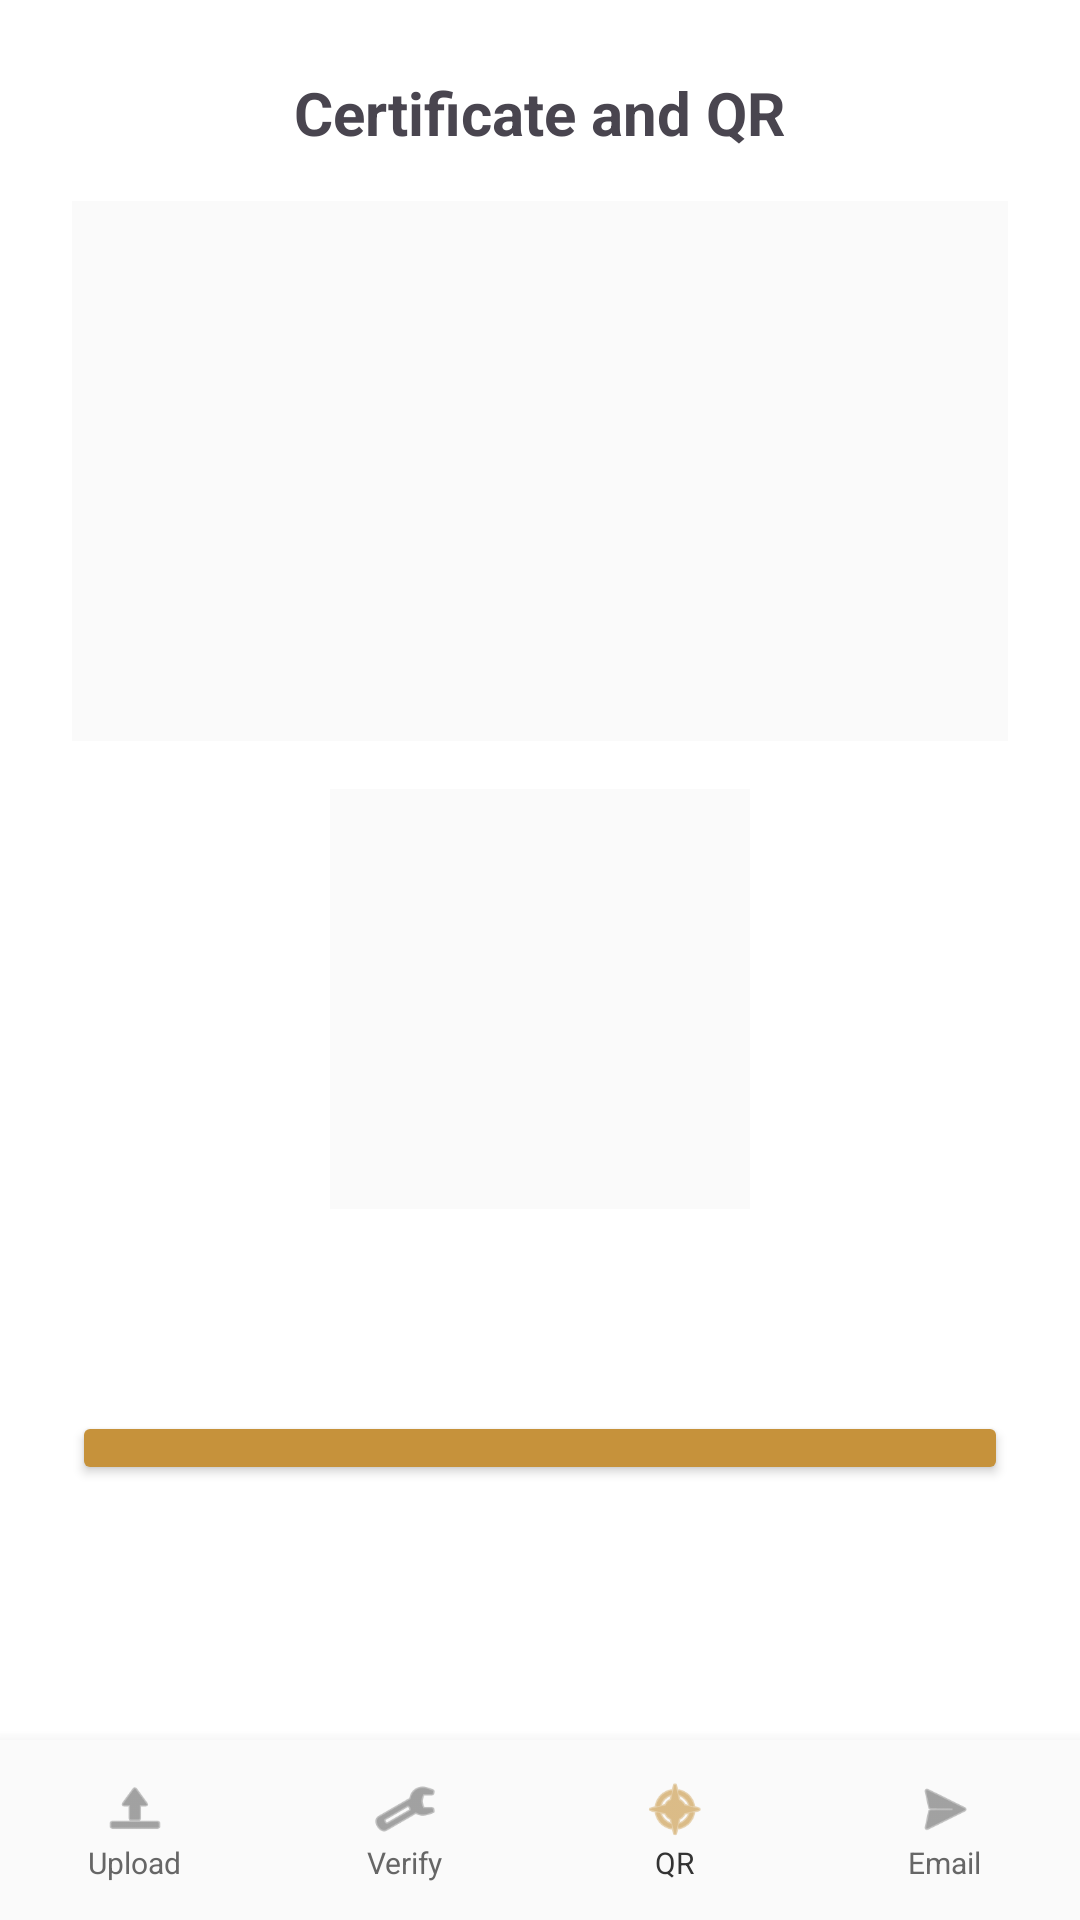

Locate icon controls on the screen. Image size 1080px×1920px, boxes as bbox=[x1, y1, x2, y2].
compass: bbox=[649, 1783, 701, 1835]
manage: bbox=[375, 1786, 435, 1832]
send: bbox=[925, 1789, 967, 1830]
